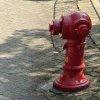a fire hydrant: (43, 10, 94, 90)
